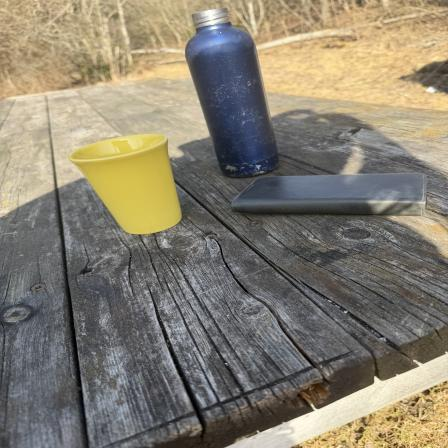blue_bottle: (184, 9, 286, 178)
phone: (230, 178, 433, 215)
yellow_cup: (68, 134, 189, 235)
